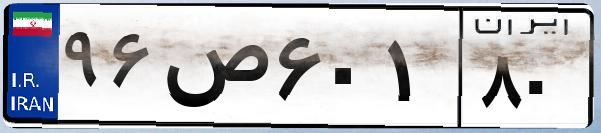0: (330, 28, 385, 110), (525, 38, 570, 115)
1: (385, 28, 445, 110)
6: (270, 28, 330, 110), (110, 28, 158, 98)
8: (475, 38, 525, 113)
9: (57, 26, 110, 100)
ص: (158, 20, 270, 120)
